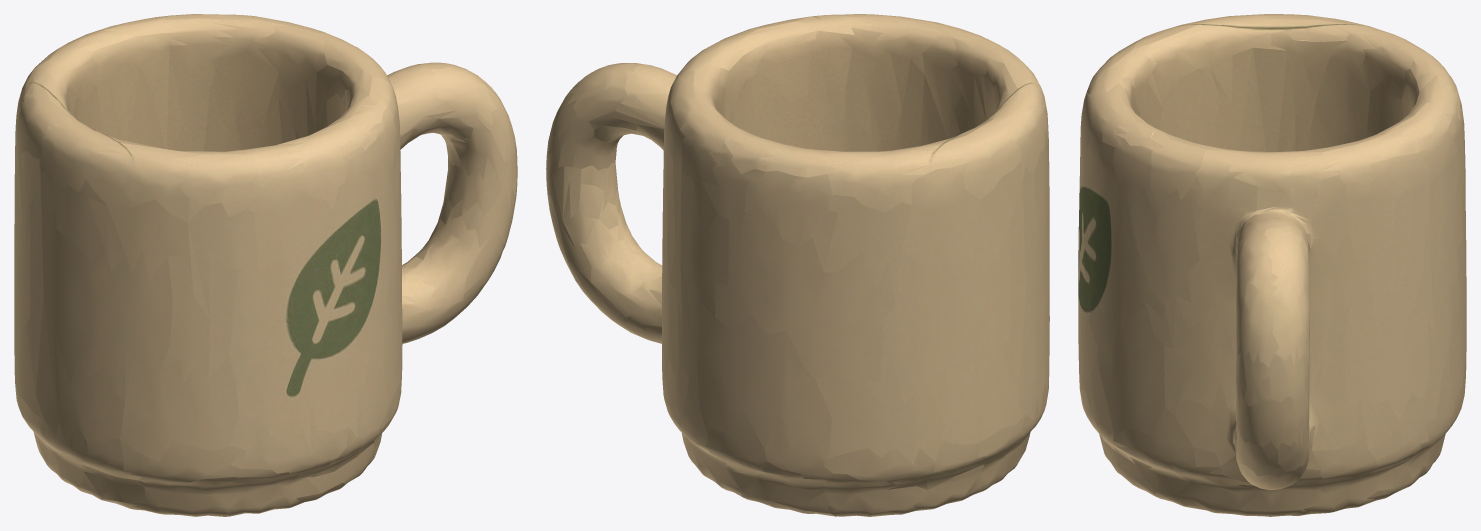
File: mug.glb
The picture shows the model from 3 angles, left to right: view 1: azimuth 30°, elevation 25°; view 2: azimuth 150°, elevation 25°; view 3: azimuth 270°, elevation 25°; orthographic projection.
Parts seen in each view (by area): view 1: mesh_node; view 2: mesh_node; view 3: mesh_node.
Part boxes in pixels (bbox=[...]): mesh_node: bbox=[14, 14, 517, 516]; mesh_node: bbox=[546, 14, 1049, 516]; mesh_node: bbox=[1078, 14, 1466, 516].
Size of the model in its own units: 0.07 by 0.052 by 0.0499.
Materials: 1 (1 with a texture image).
